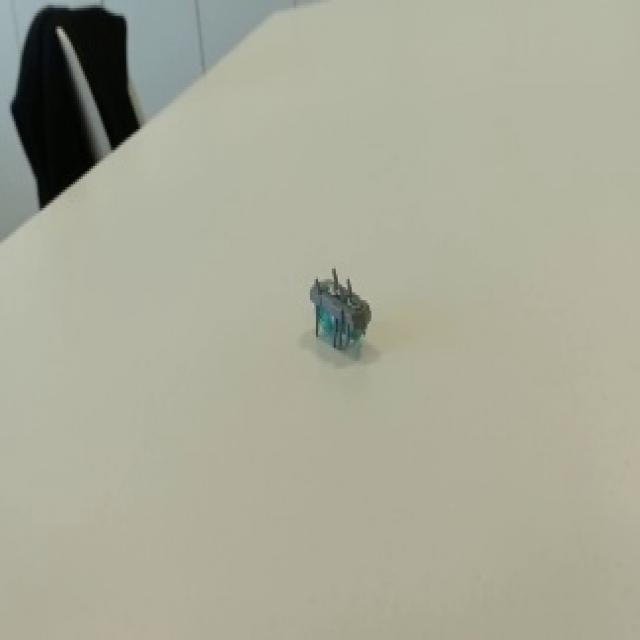5_NanoBug_GrisClaro: (288, 235, 387, 385)
